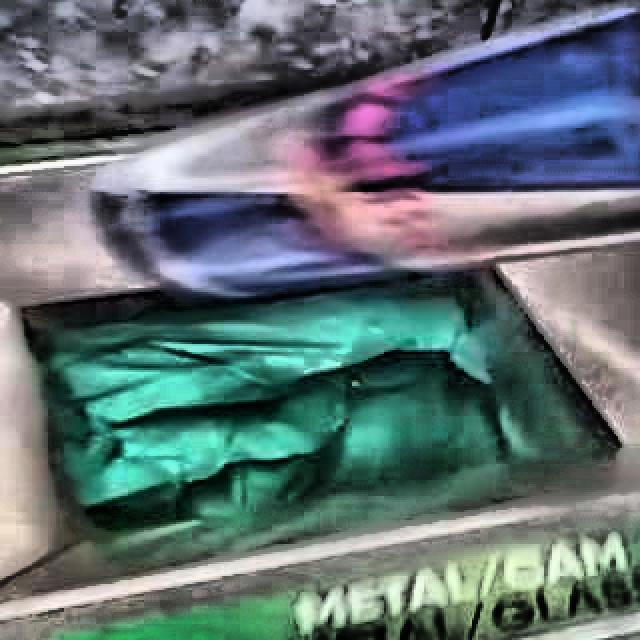metal: (96, 5, 640, 296)
